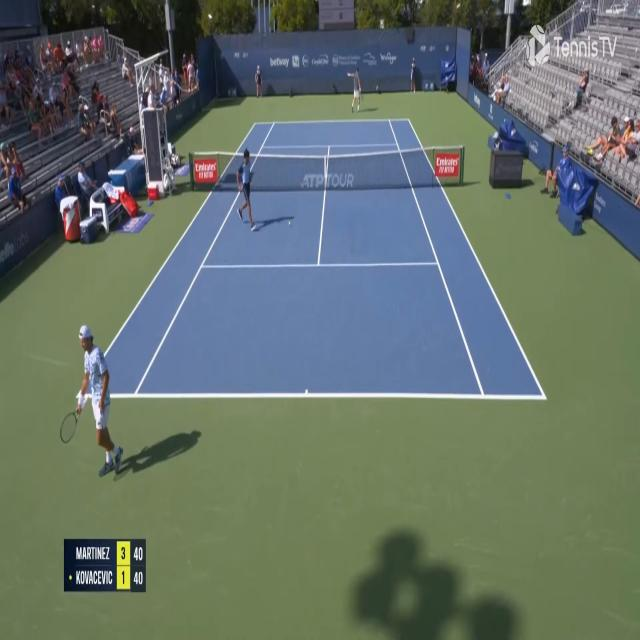tennis-player: (58, 315, 130, 482), (348, 64, 362, 114)
